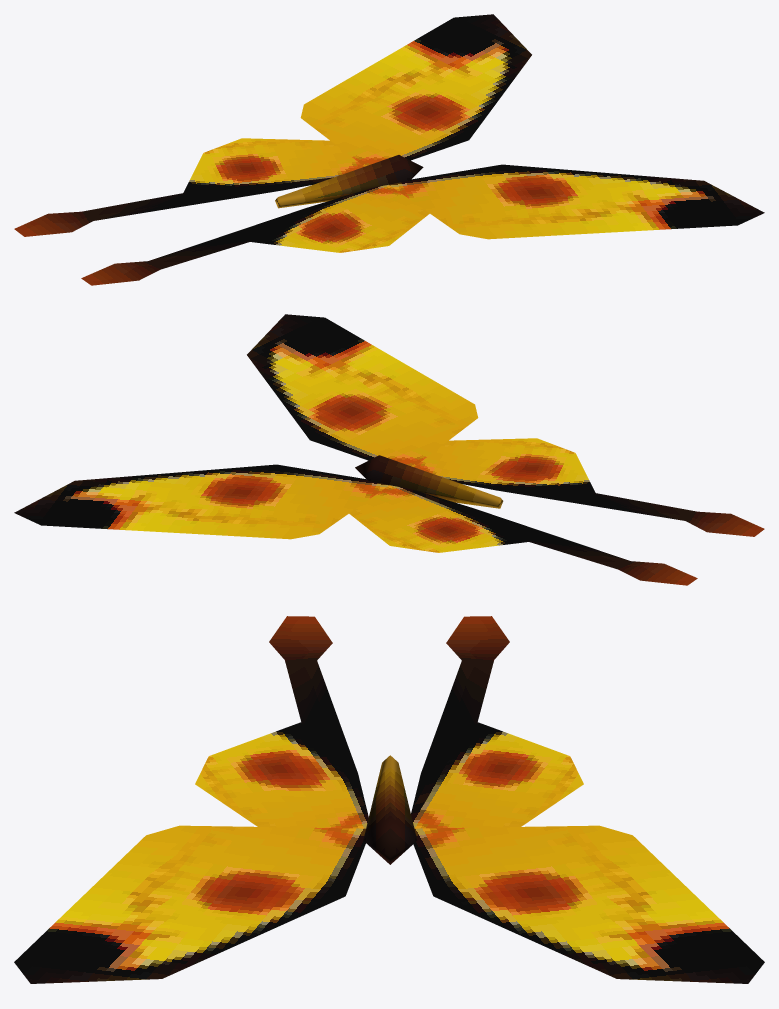
File: butterfly.glb
3 views of the same model, one above another, from view 1: azimuth 30°, elevation 25°; view 2: azimuth 150°, elevation 25°; view 3: azimuth 270°, elevation 25° (orthographic). The views are drawn at different scales.
Parts seen in each view (by area): view 1: att2, att3, att1; view 2: att3, att2, att1; view 3: att3, att2, att1.
Boxes of the visible parts, x1,y1,x2,y2 form: att2: (14, 14, 531, 236); att3: (81, 164, 764, 285); att1: (275, 155, 423, 208); att3: (247, 314, 764, 536); att2: (14, 464, 697, 585); att1: (355, 455, 503, 508); att3: (14, 616, 368, 983); att2: (411, 616, 764, 983); att1: (363, 755, 417, 864).
Size of the model in its own units: 2.73 by 0.1677 by 2.33.
Materials: 1 (1 with a texture image).
